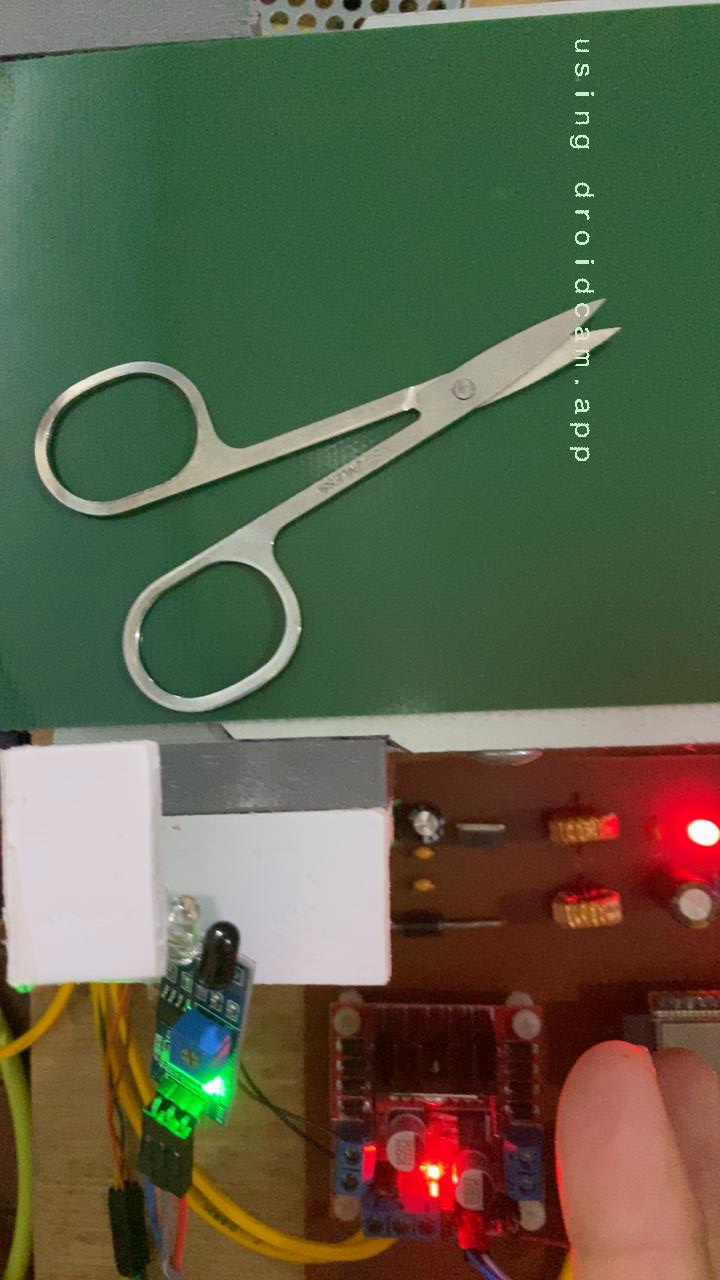scissor: (28, 296, 623, 717)
